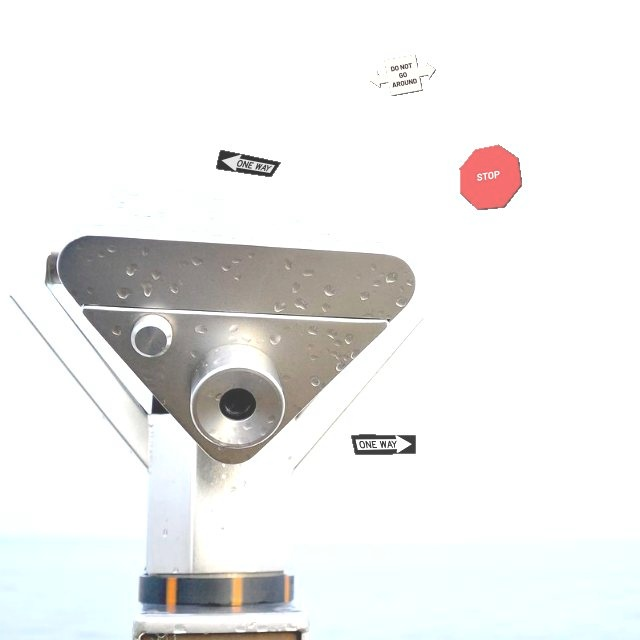DO_NOT_GO_AROUND: (370, 54, 436, 96)
ONE_WAY_ left: (215, 149, 281, 177)
ONE_WAY_ right: (350, 434, 416, 455)
STOP: (459, 144, 522, 210)
